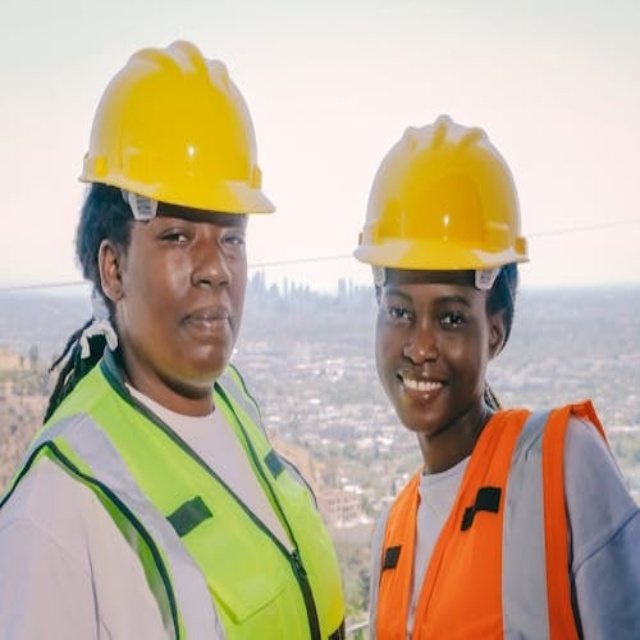Sin_gafas: (147, 212, 250, 259), (378, 283, 481, 329)
Sin_mascara: (387, 358, 460, 415), (168, 295, 239, 350)
